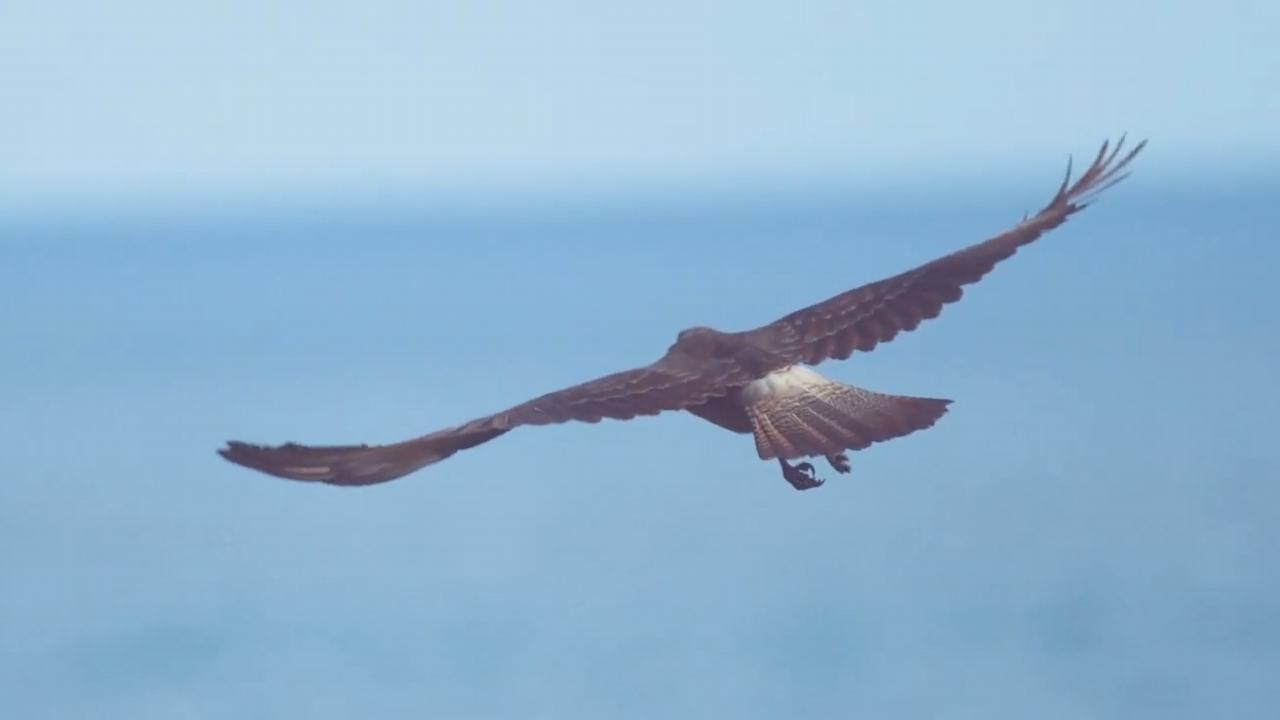Bird: (201, 128, 1158, 504)
